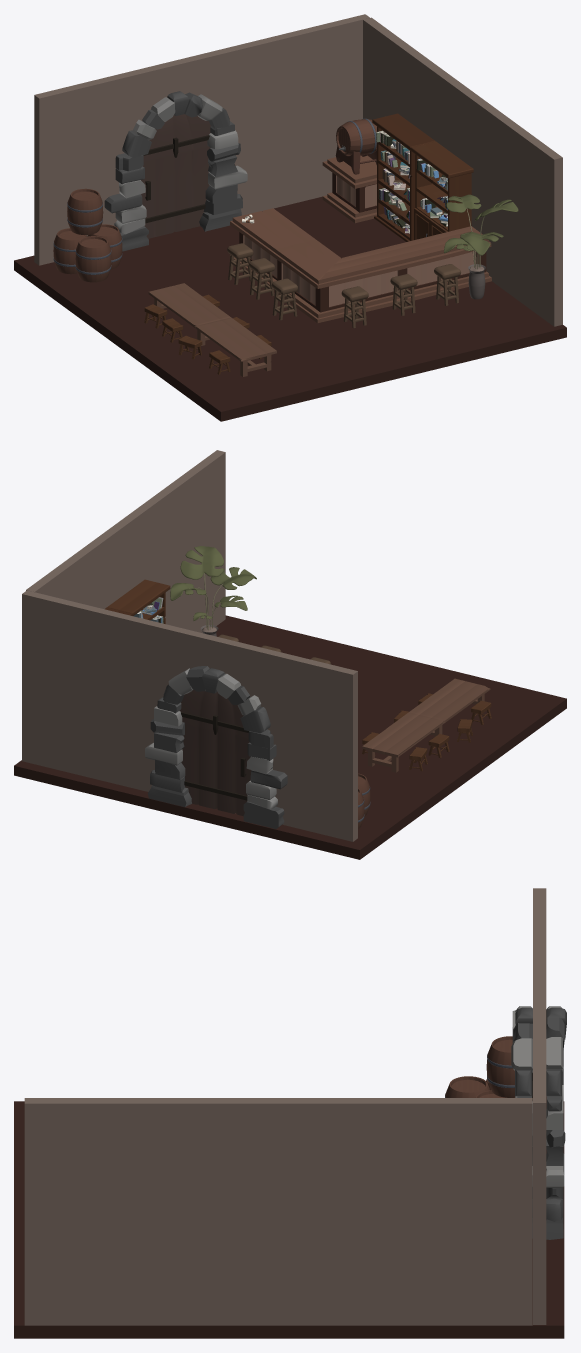
Rendered from Tavern_Scene1_Sketchfab.fbx.
3 views of the same model, one above another, from view 1: azimuth 30°, elevation 25°; view 2: azimuth 150°, elevation 25°; view 3: azimuth 270°, elevation 25° (orthographic). The views are drawn at different scales.
Visible parts, largest first — view 1: floor:Floor, wall_with_stone_arch_door:polySurface2, Wall1:Wall3, Tavern_Counter_and_Barrel:Counter_Base1, wall_with_stone_arch_door:pCube35, Tavern_Counter_and_Barrel:Counter_Base, Long_Table:Long_Table, Bookshelf_Filled_With_Books2_copy:Bookshelf_1, Bookshelf_Bottom_Cabinet:Bookshelf_3, Tavern_Counter_and_Barrel:Counter_Base2, Barrel3:Barrel, Barrel2:Barrel (+14 smaller); view 2: wall_with_stone_arch_door:polySurface2, floor:Floor, Wall1:Wall3, wall_with_stone_arch_door:pCube35, Long_Table:Long_Table, Bookshelf_Bottom_Cabinet:Bookshelf_3, Potted_Plant1:leaf1, wall_with_stone_arch_door:pCube50, wall_with_stone_arch_door:pCube51, Potted_Plant1:leaf2, wall_with_stone_arch_door:pCube43, wall_with_stone_arch_door:pCube47 (+1 smaller); view 3: Wall1:Wall3, floor:Floor, wall_with_stone_arch_door:polySurface2, Barrel2:Barrel, Barrel3:Barrel, wall_with_stone_arch_door:pCube8, wall_with_stone_arch_door:pCube59.
Part boxes in pixels (<box>): floor:Floor: <box>14,196,566,421</box>; wall_with_stone_arch_door:polySurface2: <box>34,14,369,265</box>; Wall1:Wall3: <box>363,17,562,326</box>; Tavern_Counter_and_Barrel:Counter_Base1: <box>230,155,491,288</box>; wall_with_stone_arch_door:pCube35: <box>141,114,210,238</box>; Tavern_Counter_and_Barrel:Counter_Base: <box>239,173,486,312</box>; Long_Table:Long_Table: <box>148,283,276,376</box>; Bookshelf_Filled_With_Books2_copy:Bookshelf_1: <box>372,113,435,241</box>; Bookshelf_Bottom_Cabinet:Bookshelf_3: <box>410,141,473,231</box>; Tavern_Counter_and_Barrel:Counter_Base2: <box>229,192,491,323</box>; Barrel3:Barrel: <box>75,236,111,282</box>; Barrel2:Barrel: <box>67,188,103,234</box>; wall_with_stone_arch_door:polySurface2: <box>22,590,357,841</box>; floor:Floor: <box>14,615,566,859</box>; Wall1:Wall3: <box>26,450,225,633</box>; wall_with_stone_arch_door:pCube35: <box>179,689,251,816</box>; Long_Table:Long_Table: <box>362,678,490,772</box>; Bookshelf_Bottom_Cabinet:Bookshelf_3: <box>107,579,170,623</box>; Potted_Plant1:leaf1: <box>180,546,223,579</box>; wall_with_stone_arch_door:pCube50: <box>243,801,284,828</box>; wall_with_stone_arch_door:pCube51: <box>147,785,191,807</box>; Potted_Plant1:leaf2: <box>210,567,256,589</box>; wall_with_stone_arch_door:pCube43: <box>240,706,270,733</box>; wall_with_stone_arch_door:pCube47: <box>250,769,287,789</box>; Wall1:Wall3: <box>24,1098,532,1325</box>; floor:Floor: <box>14,1101,564,1338</box>; wall_with_stone_arch_door:polySurface2: <box>533,888,546,1324</box>; Barrel2:Barrel: <box>486,1036,515,1097</box>; Barrel3:Barrel: <box>445,1076,489,1097</box>; wall_with_stone_arch_door:pCube8: <box>511,1038,532,1072</box>; wall_with_stone_arch_door:pCube59: <box>546,1037,562,1071</box>.
Size of the model in its own units: 28.57 by 13.96 by 29.77.
33 materials, 33 textured.
